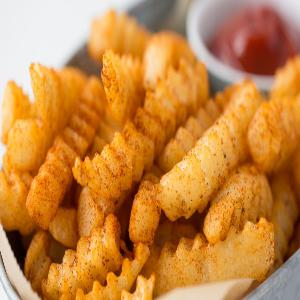fries_350cal: (7, 28, 297, 298)
